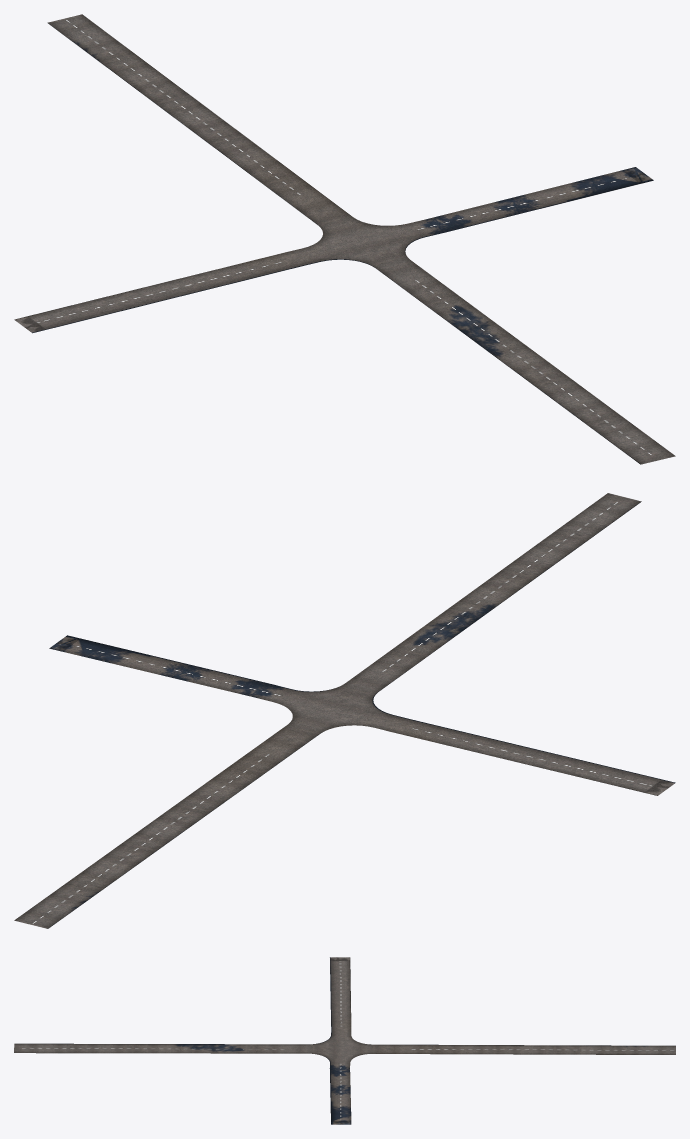
The picture shows the model from 3 angles, top to bottom: view 1: azimuth 30°, elevation 25°; view 2: azimuth 150°, elevation 25°; view 3: azimuth 270°, elevation 25°; orthographic projection. The views are drawn at different scales.
Visible parts, largest first — view 1: road; view 2: road; view 3: road.
Part boxes in pixels (x1,y1,x2,y2): road: [14, 14, 675, 464]; road: [14, 493, 675, 928]; road: [14, 957, 675, 1124].
Size of the model in its own units: 98.53 by 0 by 165.
1 material, 1 textured.
